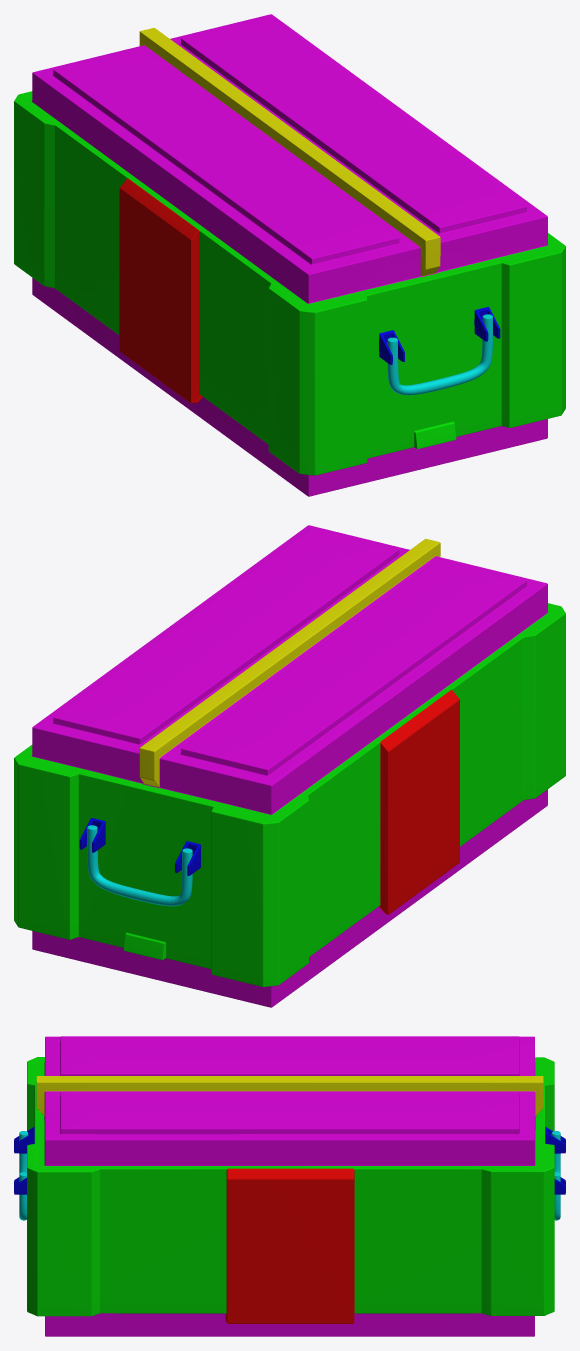
Rendered from Ammo_Box.fbx.
3 renders of one model, top to bottom at view 1: azimuth 30°, elevation 25°; view 2: azimuth 150°, elevation 25°; view 3: azimuth 270°, elevation 25°, orthographic. The views are drawn at different scales.
Visible parts, largest first — view 1: Ammo_Box; view 2: Ammo_Box; view 3: Ammo_Box.
Boxes of the visible parts, <box> form: Ammo_Box: <box>14,14,565,496</box>; Ammo_Box: <box>14,525,565,1007</box>; Ammo_Box: <box>14,1036,565,1336</box>.
Bounding box in the file's own units: 40.81 × 33.73 × 81.78.
